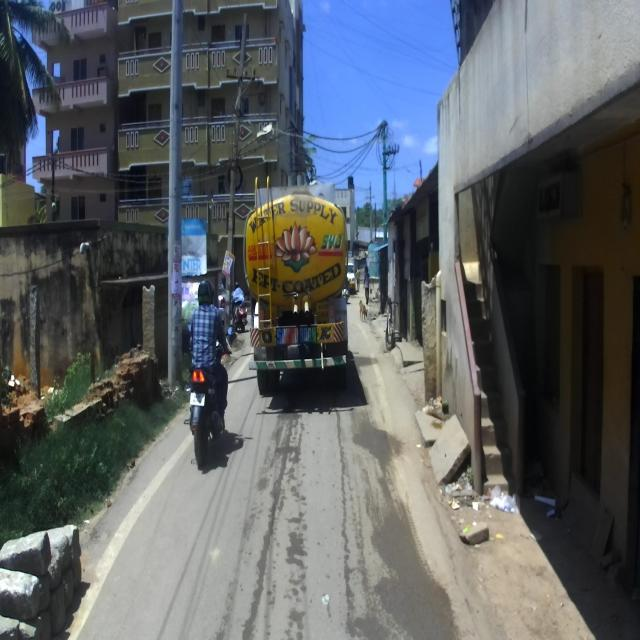motorcycle_TVS: (183, 320, 234, 468)
